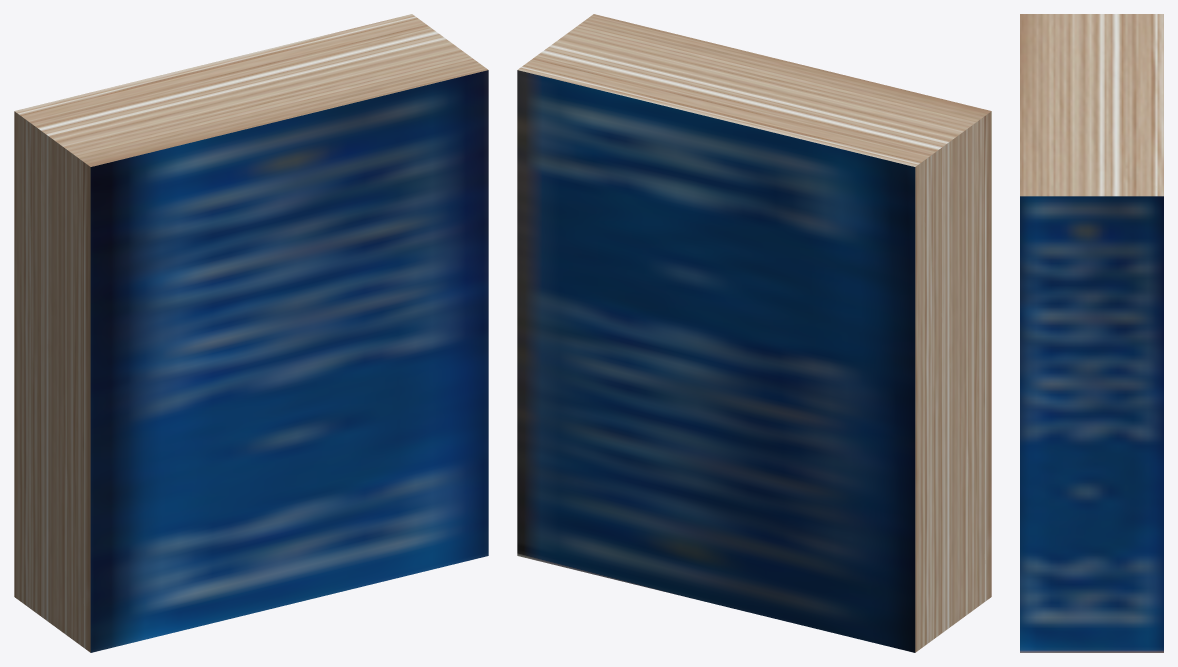
Rendered from book_a.glb.
3 renders of one model, left to right at view 1: azimuth 30°, elevation 25°; view 2: azimuth 150°, elevation 25°; view 3: azimuth 270°, elevation 25°, orthographic. The views are drawn at different scales.
Visible parts, largest first — view 1: Cubo.062; view 2: Cubo.062; view 3: Cubo.062.
Part boxes in pixels (<box>): Cubo.062: <box>14,14,488,652</box>; Cubo.062: <box>517,14,991,652</box>; Cubo.062: <box>1020,14,1163,652</box>.
Bounding box in the file's own units: 0.3 × 0.35 × 0.1.
Materials: 1 (1 with a texture image).
